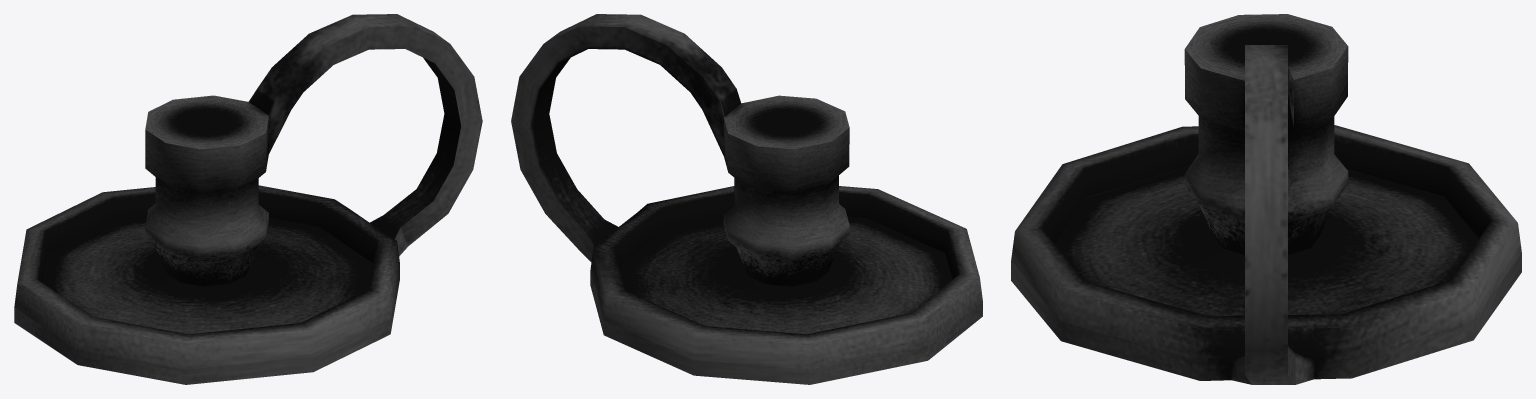
The model's file is Candle holder.FBX.
3 renders of one model, left to right at view 1: azimuth 30°, elevation 25°; view 2: azimuth 150°, elevation 25°; view 3: azimuth 270°, elevation 25°, orthographic. The views are drawn at different scales.
Visible parts, largest first — view 1: short candle stick; view 2: short candle stick; view 3: short candle stick.
Part boxes in pixels (box(x1,y1,x2,y2)): short candle stick: box(14, 14, 482, 384); short candle stick: box(511, 14, 982, 384); short candle stick: box(1011, 14, 1521, 384).
Size of the model in its own units: 8.54 by 4.56 by 6.79.
Materials: 1 (1 with a texture image).
